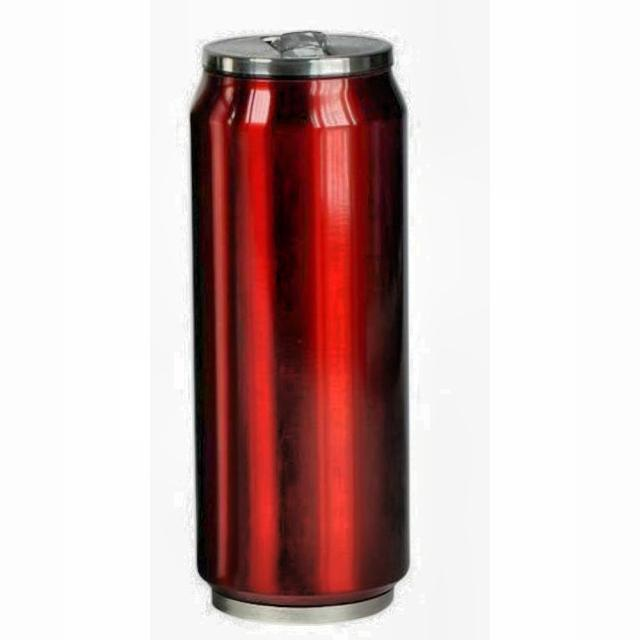Cans: (183, 13, 430, 623)
